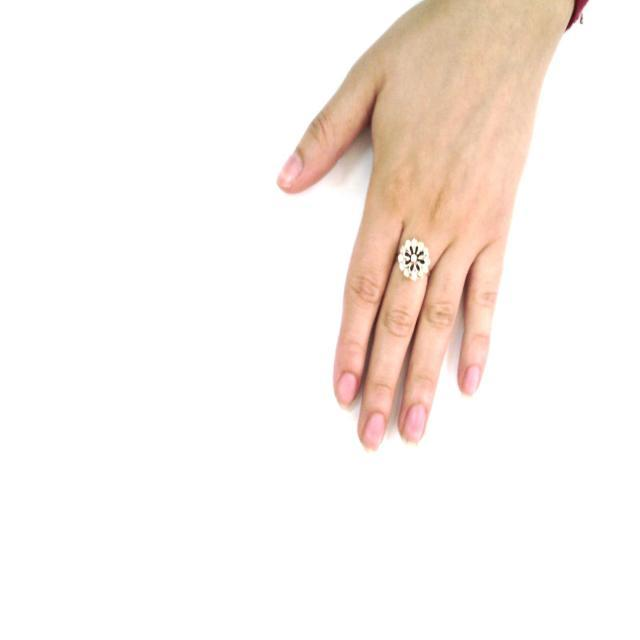Fingernail: (402, 405, 425, 443), (364, 413, 384, 451), (278, 153, 301, 184), (339, 373, 357, 406), (463, 368, 480, 397)
